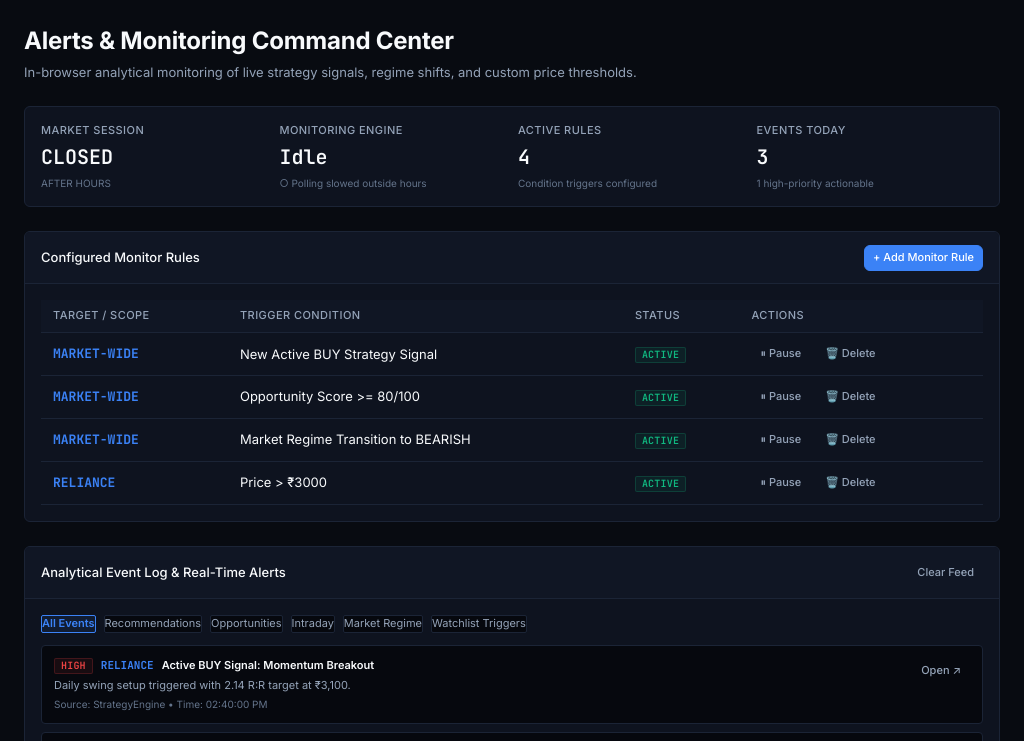
Test: AlertsPage (FE-12) › allows adding a new price monitor rule and toggling active state
Click the button with test id "add-monitor-rule-btn" at {"x": 924, "y": 258}, box [864,245,983,271]
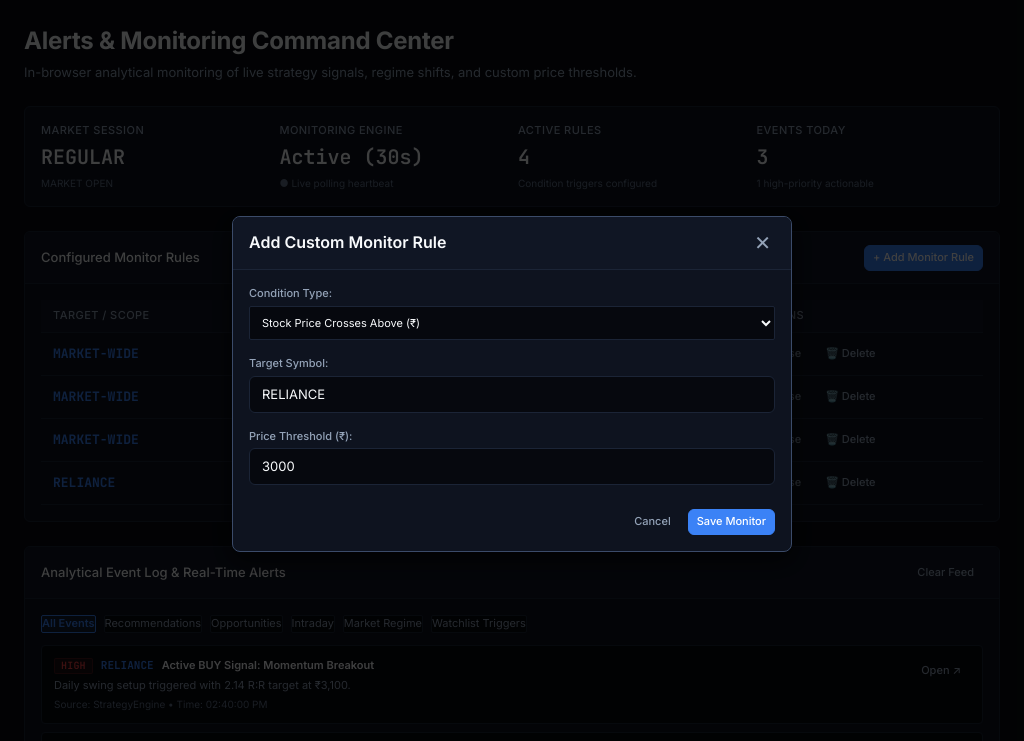
Now the field with test id "rule-threshold-input" is shown
Type "3150" into the field with test id "rule-threshold-input" at {"x": 512, "y": 467}, box [262,449,762,484]
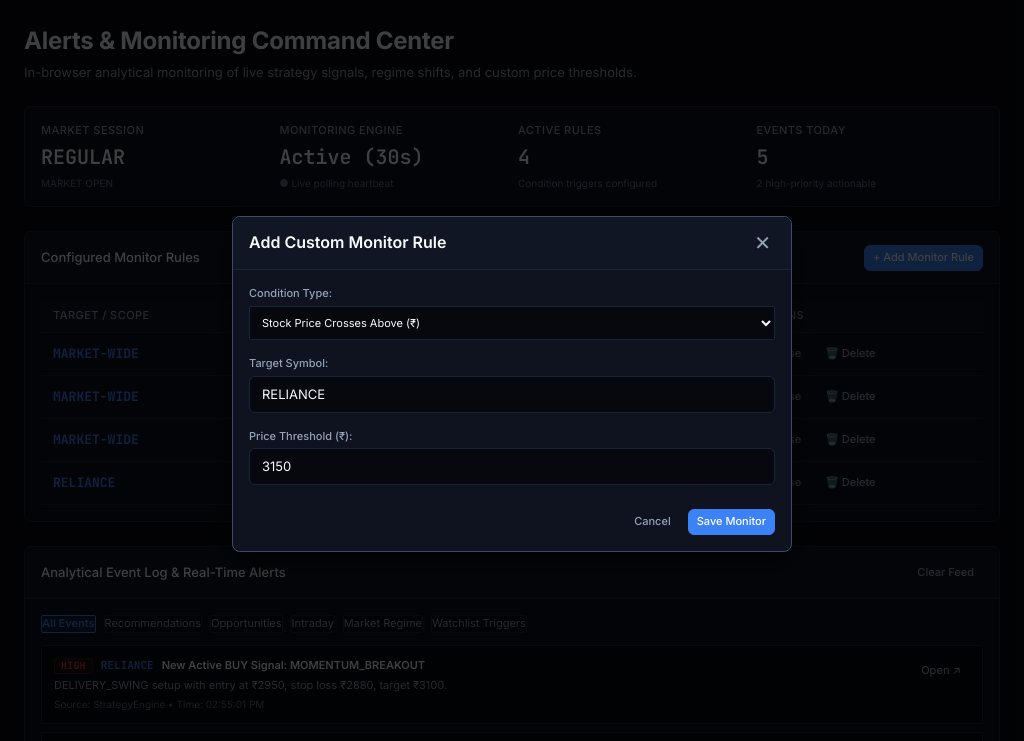
Submit the form with test id "add-monitor-rule-form", box [249,286,775,535]
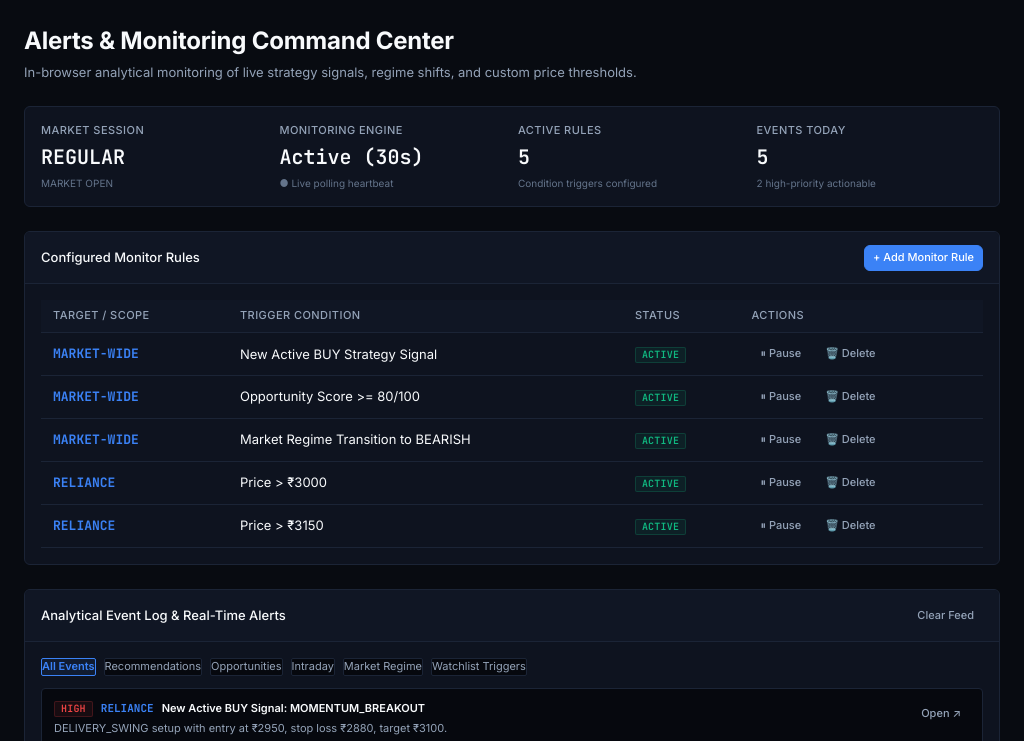
Now the text "Price > ₹3150" is shown, box [228,504,623,547]
# Toggle pause on the rule
Click the button with test id "toggle-rule-rule-def-1" at {"x": 781, "y": 354}, box [752,341,810,367]
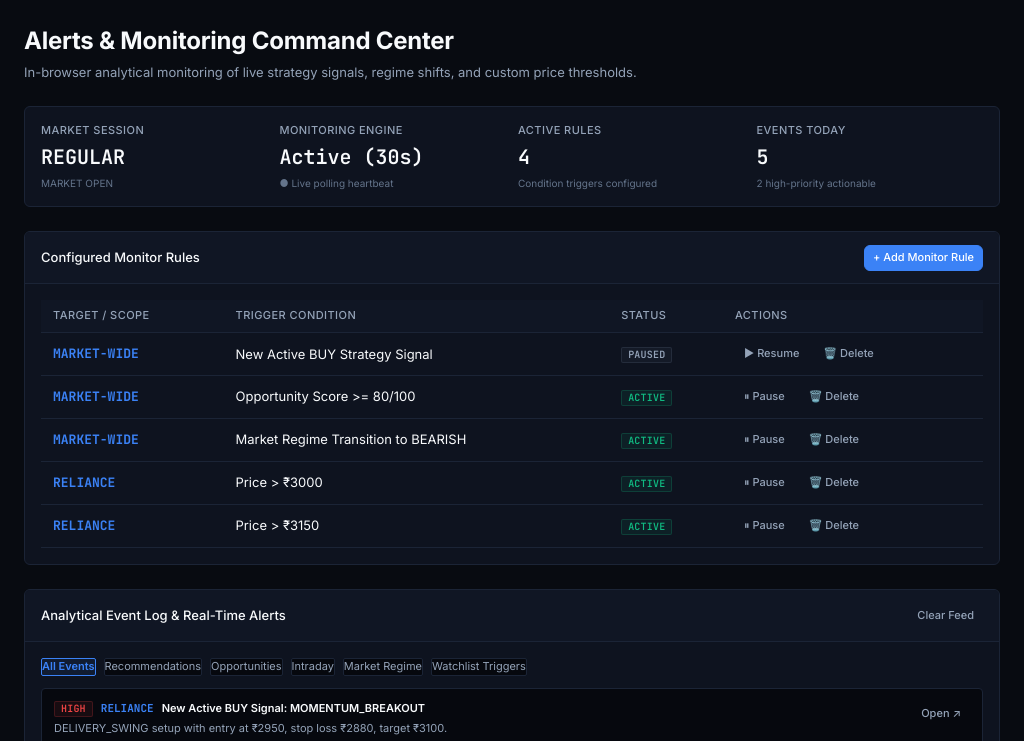
Now the button with test id "toggle-rule-rule-def-1" shows "Resume", box [735,341,808,367]
